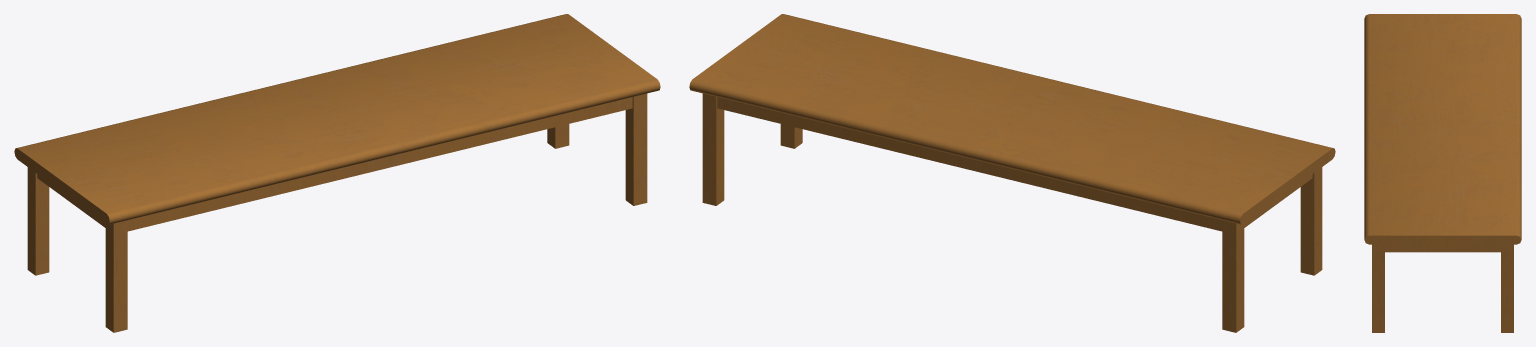
Rendered from Bench_2.fbx.
The picture shows the model from 3 angles, left to right: view 1: azimuth 30°, elevation 25°; view 2: azimuth 150°, elevation 25°; view 3: azimuth 270°, elevation 25°; orthographic projection. The views are drawn at different scales.
Parts seen in each view (by area): view 1: Bench_2; view 2: Bench_2; view 3: Bench_2.
Part boxes in pixels (x1,y1,x2,y2): Bench_2: (14, 14, 660, 332); Bench_2: (689, 14, 1335, 332); Bench_2: (1364, 14, 1521, 332).
Size of the model in its own units: 2 by 0.425 by 0.6.
